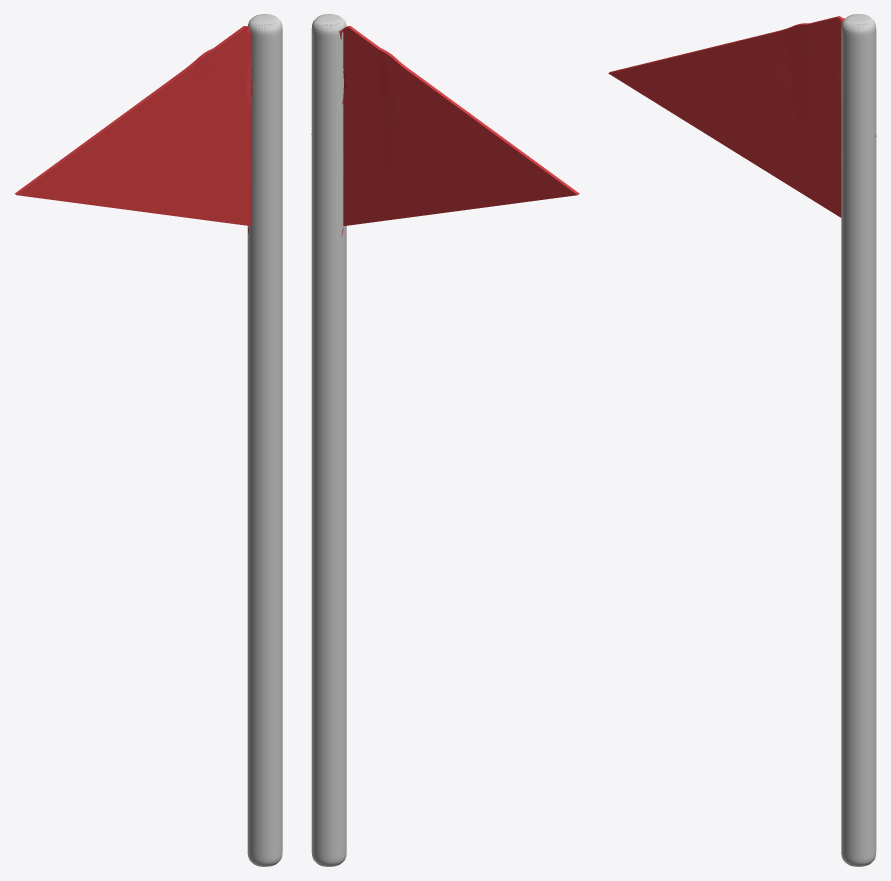
File: golf_flag.glb
The picture shows the model from 3 angles, left to right: view 1: azimuth 30°, elevation 25°; view 2: azimuth 150°, elevation 25°; view 3: azimuth 330°, elevation 25°; orthographic projection.
Parts seen in each view (by area): view 1: Object_4, Object_2, Object_5; view 2: Object_4, Object_3, Object_5, Object_2; view 3: Object_4, Object_2, Object_5.
Boxes of the visible parts, box(x1,y1,x2,y2) form: Object_4: box(247, 14, 282, 866); Object_2: box(14, 26, 252, 233); Object_5: box(247, 16, 282, 866); Object_4: box(311, 14, 346, 866); Object_3: box(311, 27, 577, 237); Object_5: box(311, 17, 346, 866); Object_2: box(340, 26, 579, 230); Object_4: box(841, 14, 876, 866); Object_2: box(608, 16, 844, 217); Object_5: box(841, 21, 876, 866).
Bounding box in the file's own units: 11.28 × 34.36 × 1.29.
